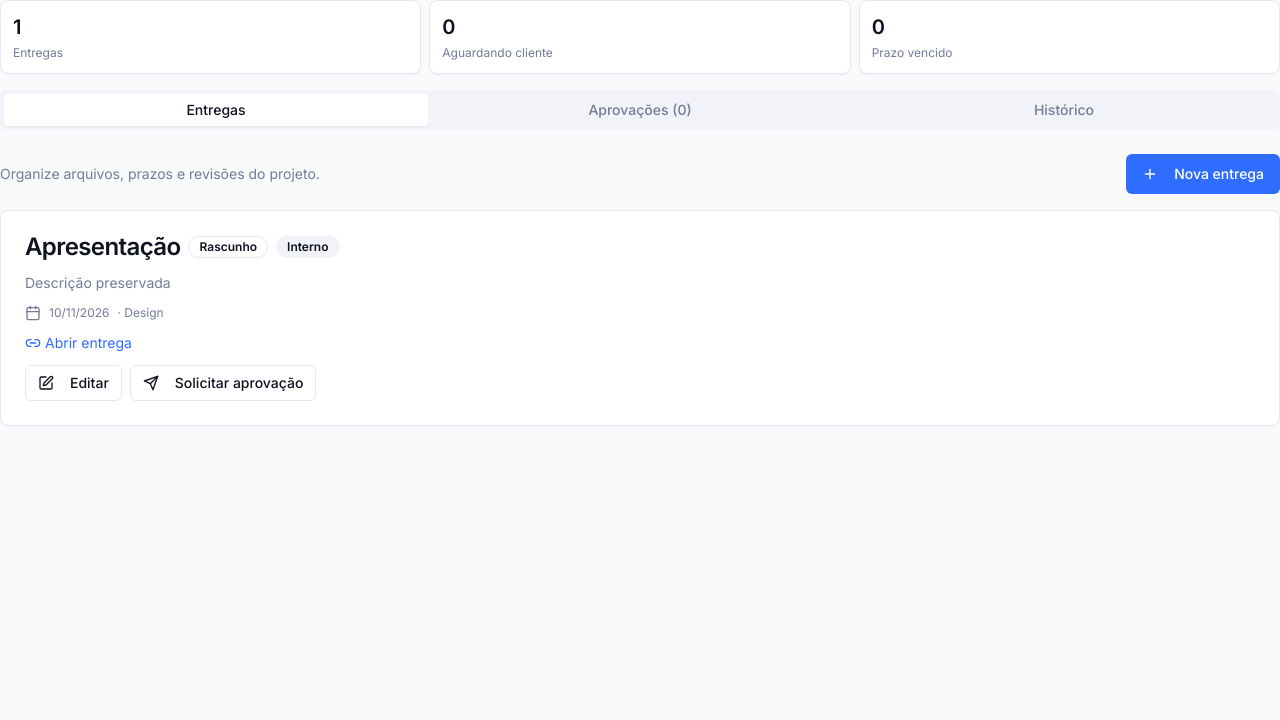
Test case: ProjectDeliveryManager › edits and saves the full delivery without dropping its deadline, phase or link
Click the button "Editar" at (73, 383), box [25,365,122,401]
(page scrolled)
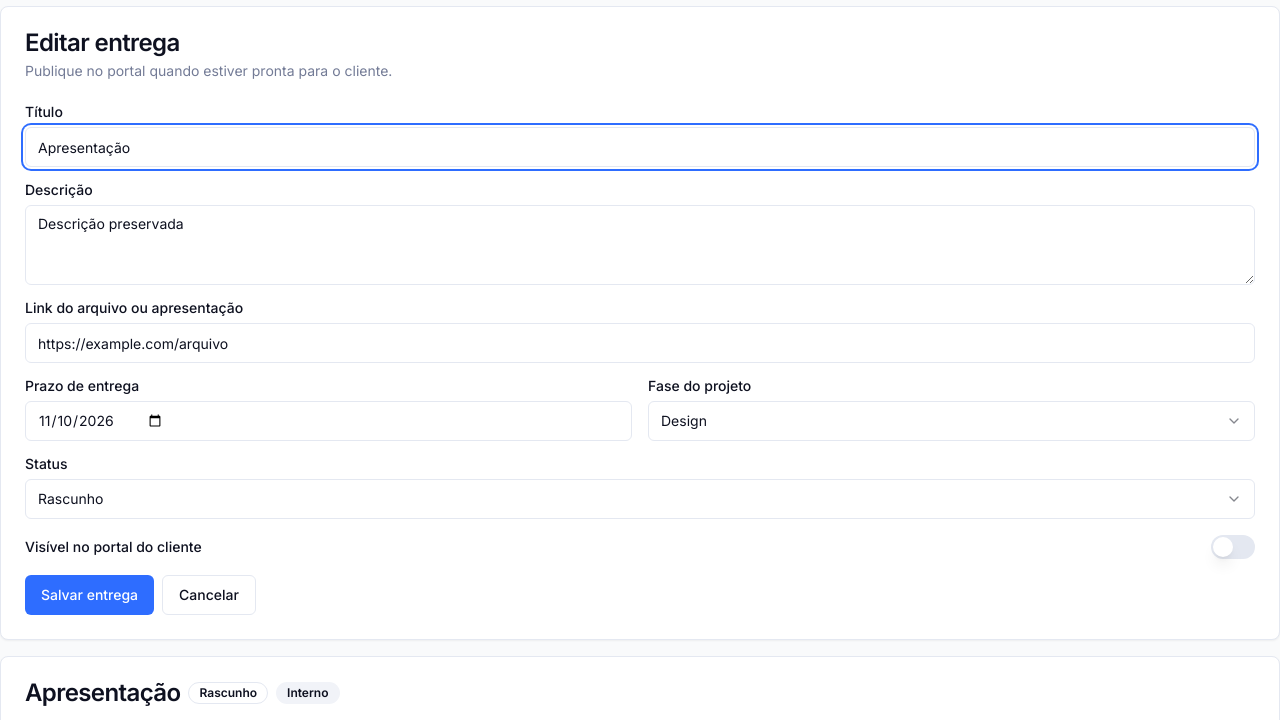
Check: the field with id "delivery-url" holds "https://example.com/arquivo", box [25,323,1255,363]
Check: the date field with id "delivery-due" holds "2026-11-10", box [25,401,632,441]
Submit the form
(page scrolled)
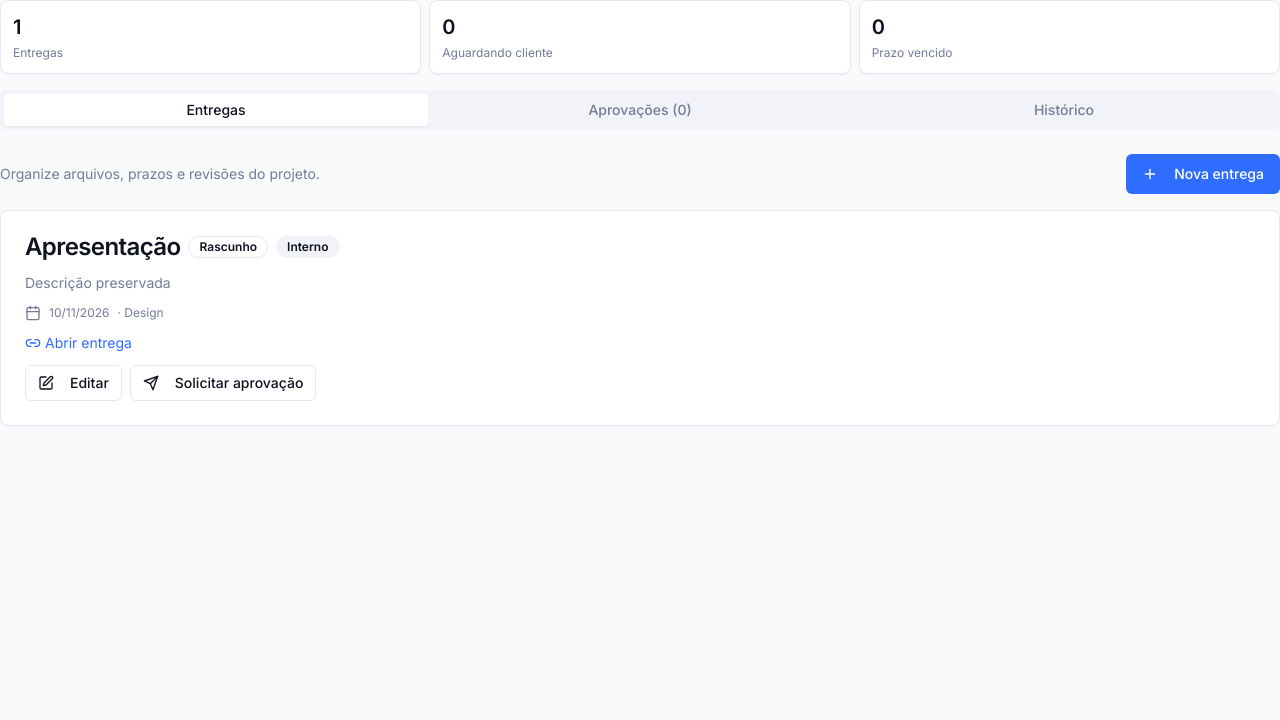
Check: the form is gone
